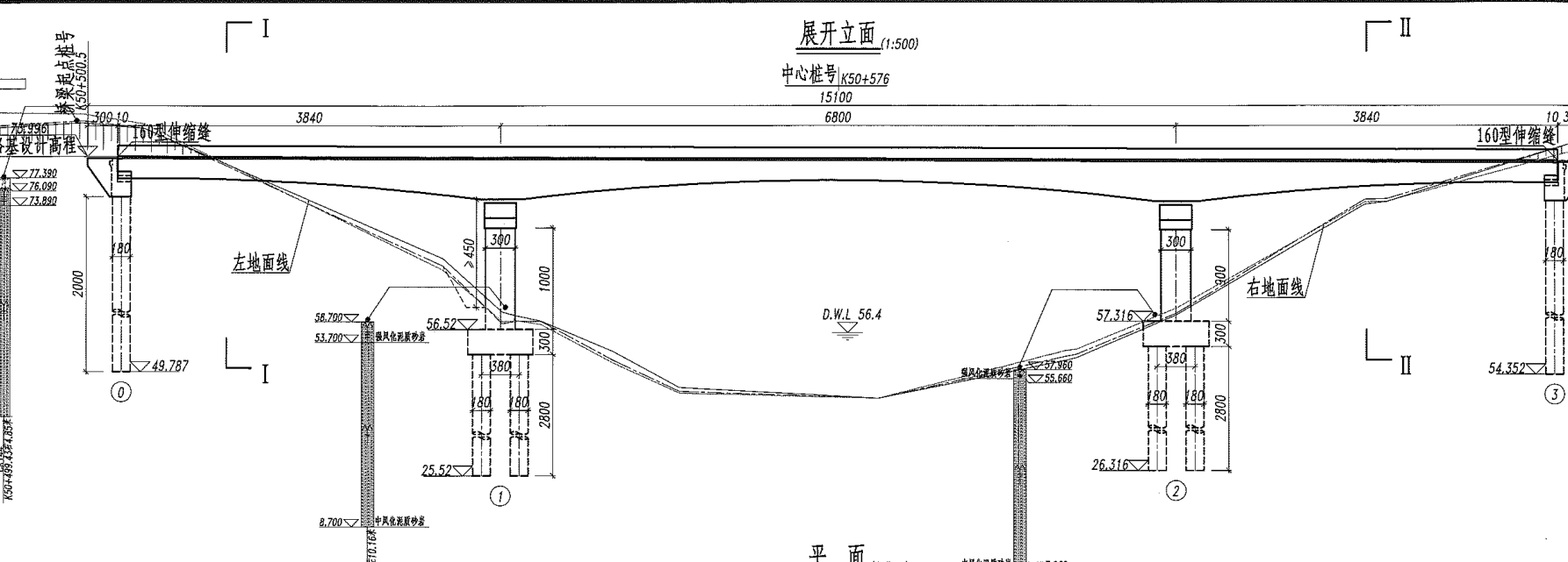A: (81, 89, 1568, 115)
B: (495, 107, 1193, 132), (82, 112, 507, 131)
C: (1090, 196, 1226, 508), (414, 194, 544, 517), (1483, 157, 1567, 409)
D: (816, 302, 901, 352)
